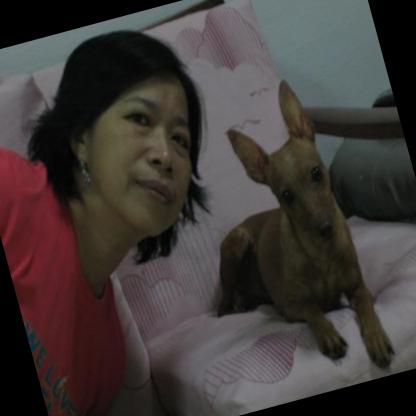miniature_pinscher: (157, 67, 398, 408)
